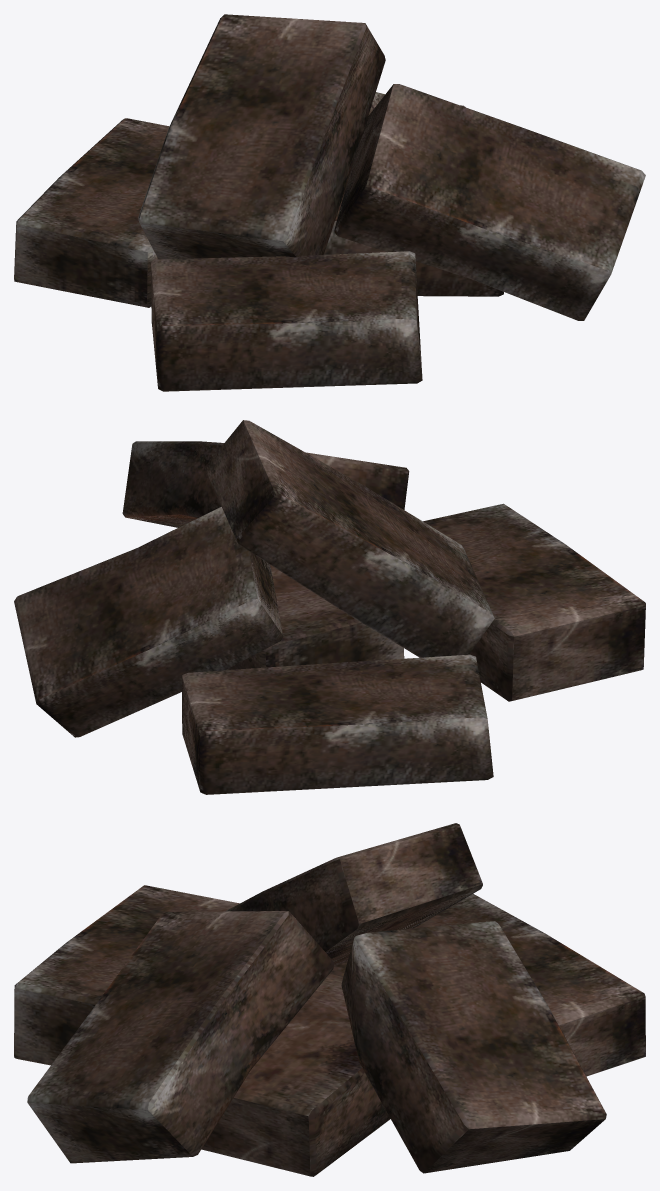
The model's file is brick_pile02.dae.
3 views of the same model, one above another, from view 1: azimuth 30°, elevation 25°; view 2: azimuth 150°, elevation 25°; view 3: azimuth 270°, elevation 25° (orthographic). The views are drawn at different scales.
Parts seen in each view (by area): view 1: polySurface55; view 2: polySurface55; view 3: polySurface55.
Part boxes in pixels (x1,y1,x2,y2): polySurface55: (14,14,645,391); polySurface55: (14,420,645,794); polySurface55: (14,823,645,1176).
Size of the model in its own units: 0.5148 by 0.2409 by 0.5262.
